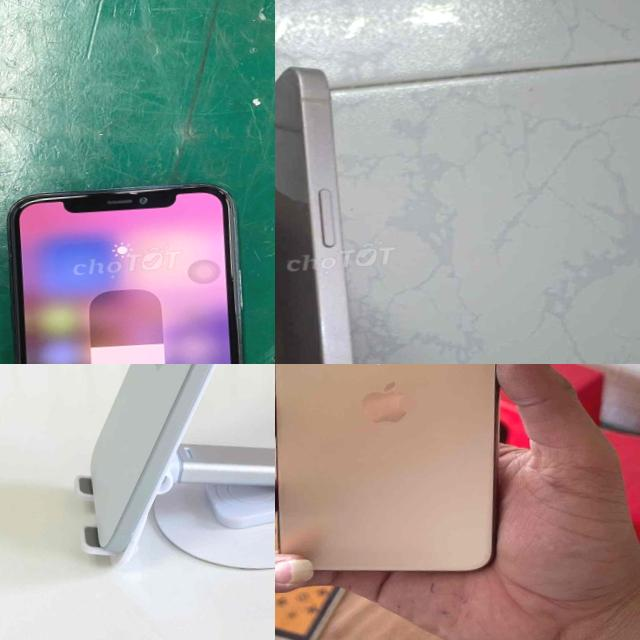gen_11: (275, 364, 540, 600), (0, 177, 265, 364)
gen_12_13: (275, 58, 417, 364)
gen_15: (35, 364, 275, 571)
scratch: (170, 178, 236, 206), (0, 241, 25, 276), (119, 184, 143, 204)
